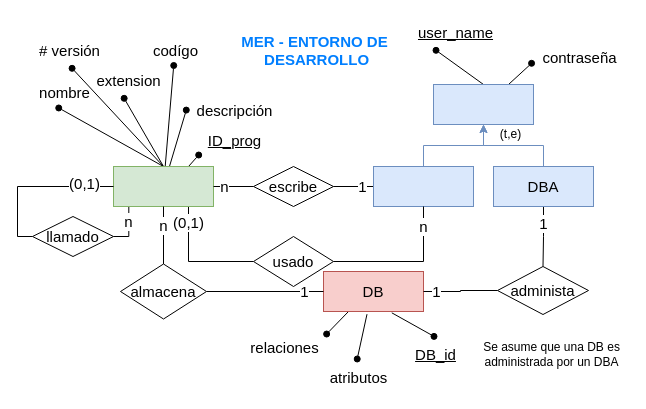
The diagram is 646 pixels wide and 409 high, and some of its shapes have lost their labels. Each missing label, with the centre of its shape:
programa: the point at 163,186
programador: the point at 423,186
usuarios: the point at 483,104
